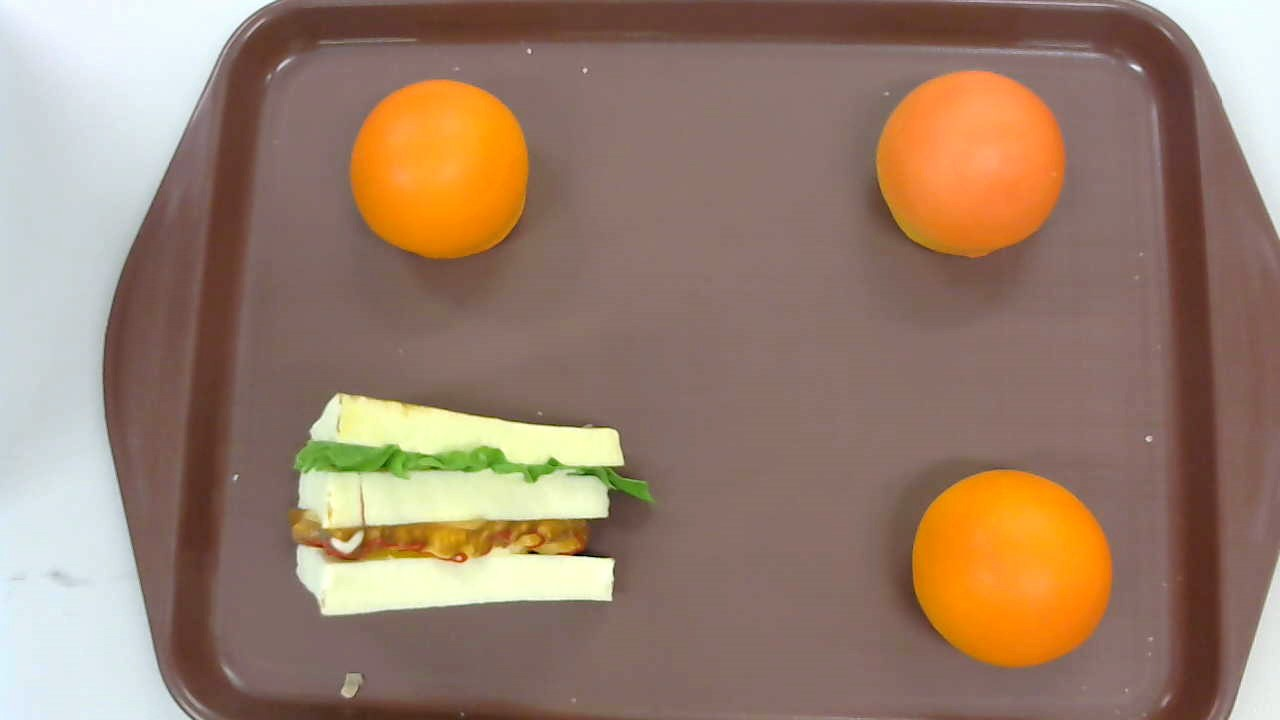bun: (912, 469, 1112, 668), (876, 69, 1066, 258), (349, 79, 528, 260)
sandwich: (291, 392, 656, 616)
